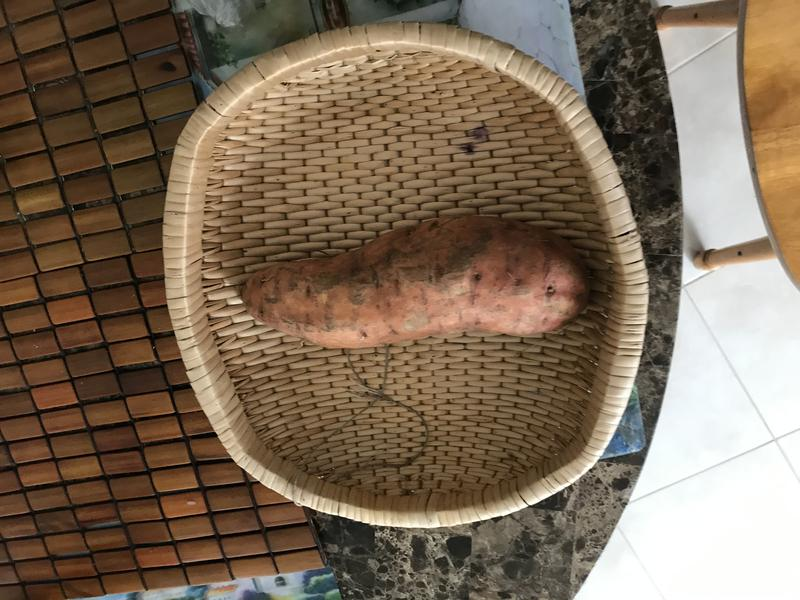sweet_potato: (232, 206, 594, 353)
